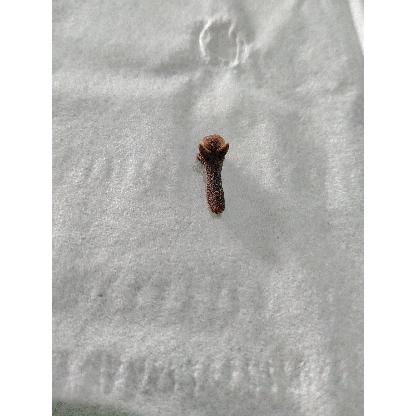baik: (197, 135, 229, 216)
